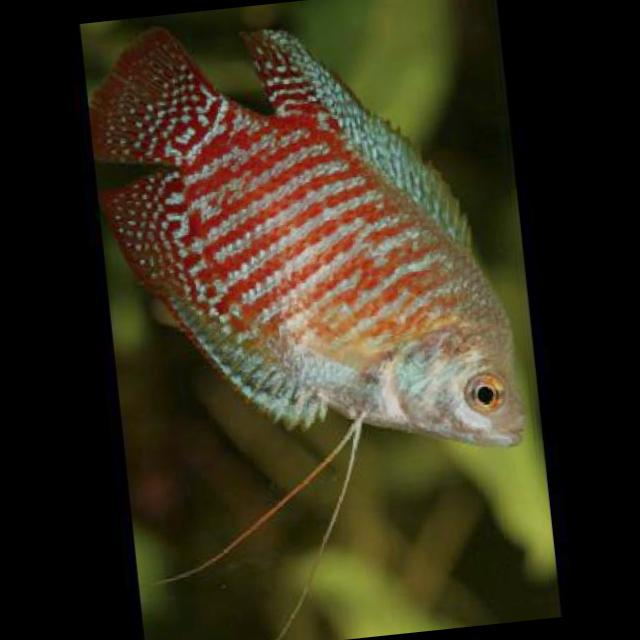Gourami: (82, 0, 536, 492)
